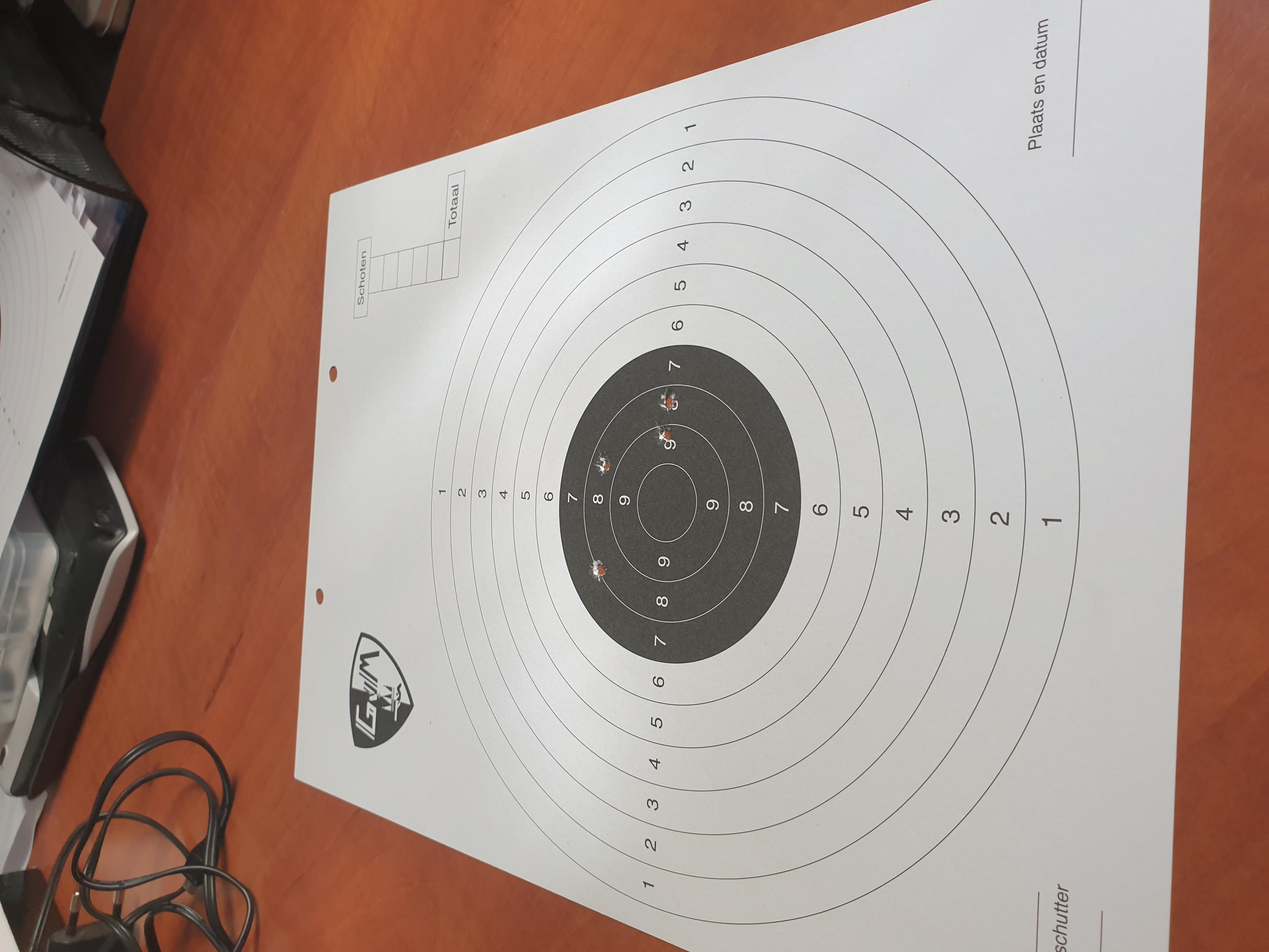hole: (634, 445, 669, 461), (493, 441, 524, 458), (718, 494, 752, 508), (676, 492, 703, 506)
